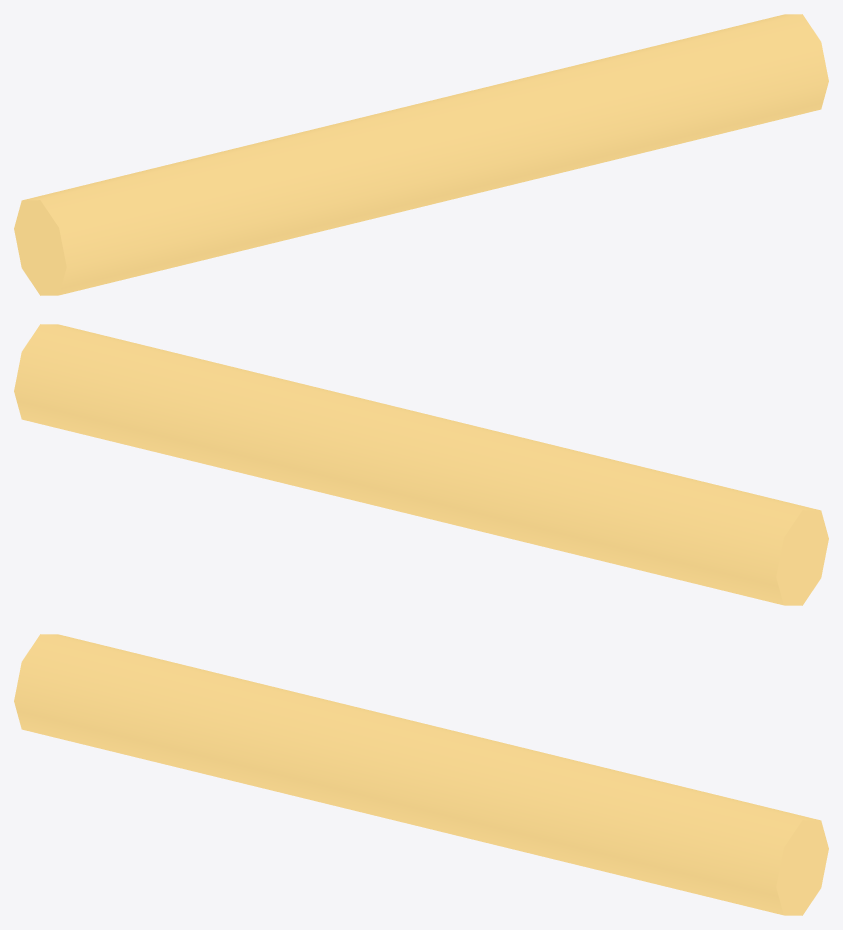
3 renders of one model, top to bottom at view 1: azimuth 30°, elevation 25°; view 2: azimuth 150°, elevation 25°; view 3: azimuth 330°, elevation 25°, orthographic.
Visible parts, largest first — view 1: 503 B Mark; view 2: 503 B Mark; view 3: 503 B Mark.
Boxes of the visible parts, x1,y1,x2,y2 form: 503 B Mark: (14, 14, 828, 295); 503 B Mark: (14, 324, 828, 605); 503 B Mark: (14, 634, 828, 915).
Size of what is drawn, in the model's own units: 0.5 by 0.06 by 0.06.
